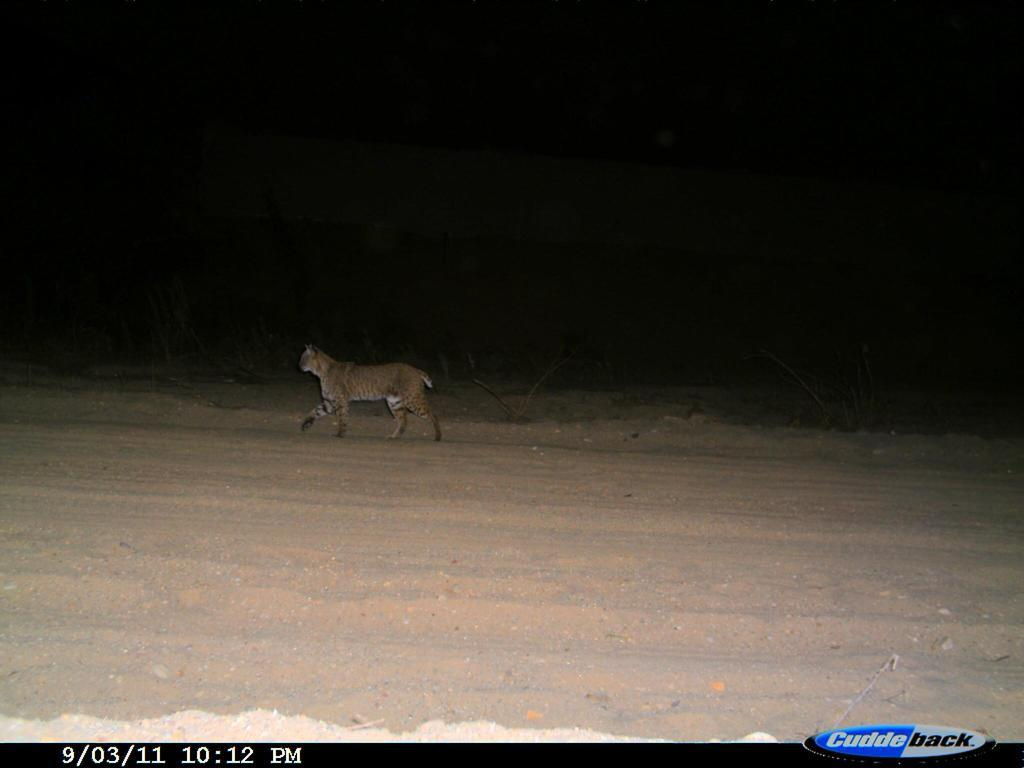bobcat: (287, 338, 447, 456)
